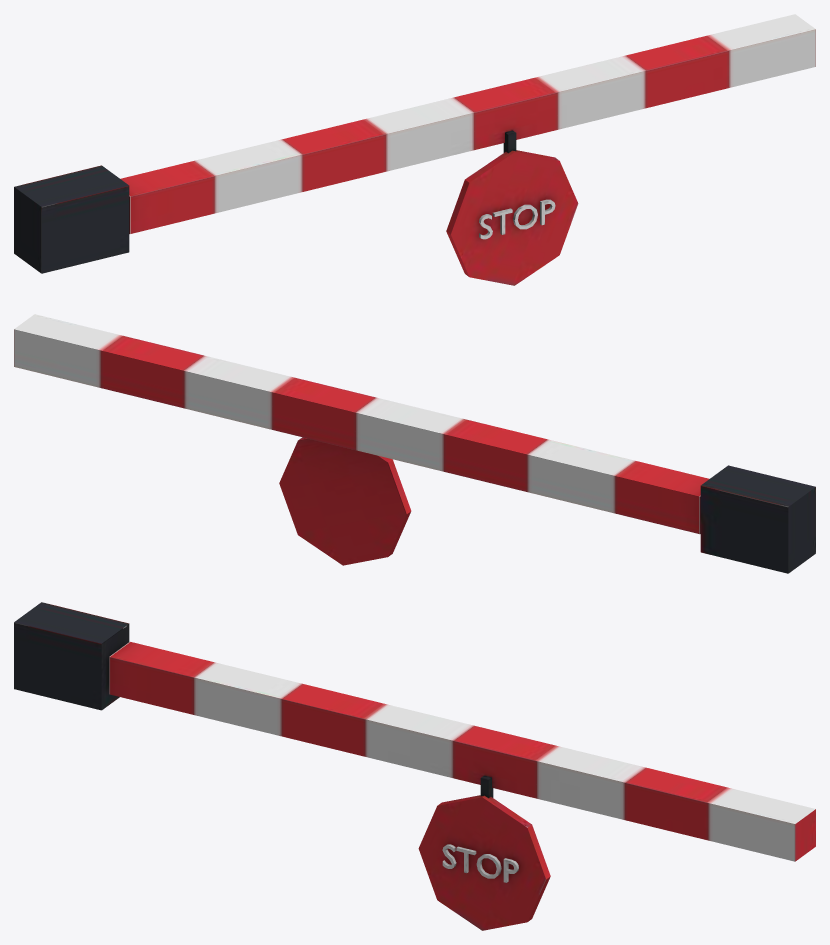
Rendered from barrera_control_brazo.glb.
3 views of the same model, one above another, from view 1: azimuth 30°, elevation 25°; view 2: azimuth 150°, elevation 25°; view 3: azimuth 330°, elevation 25° (orthographic).
Visible parts, largest first — view 1: barrera_control_brazo; view 2: barrera_control_brazo; view 3: barrera_control_brazo.
Boxes of the visible parts, left/top/right/bottom form: barrera_control_brazo: left=14, top=14, right=815, bottom=285; barrera_control_brazo: left=14, top=314, right=815, bottom=573; barrera_control_brazo: left=14, top=602, right=815, bottom=930.
Bounding box in the file's own units: 1.95 × 0.46 × 0.143.
Materials: 1 (1 with a texture image).
